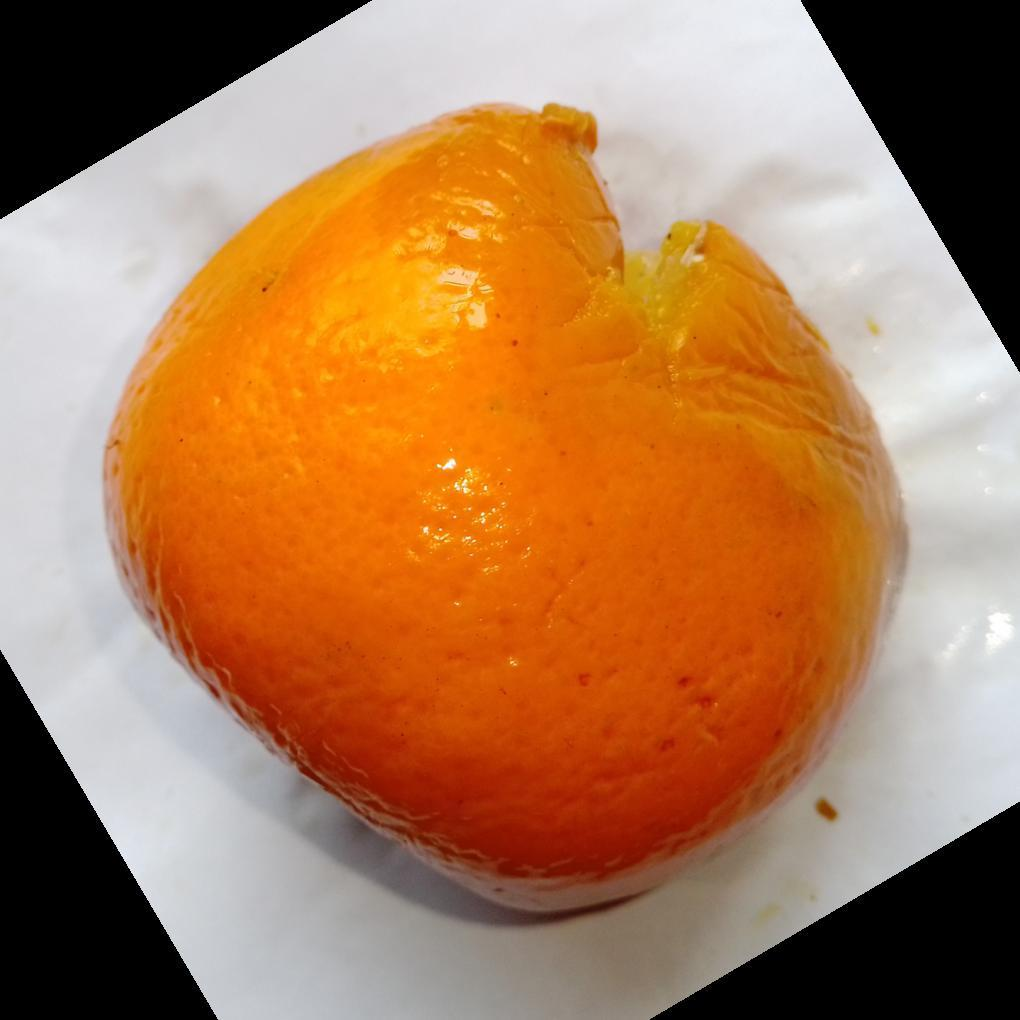FreshOrange: (94, 104, 911, 922)
